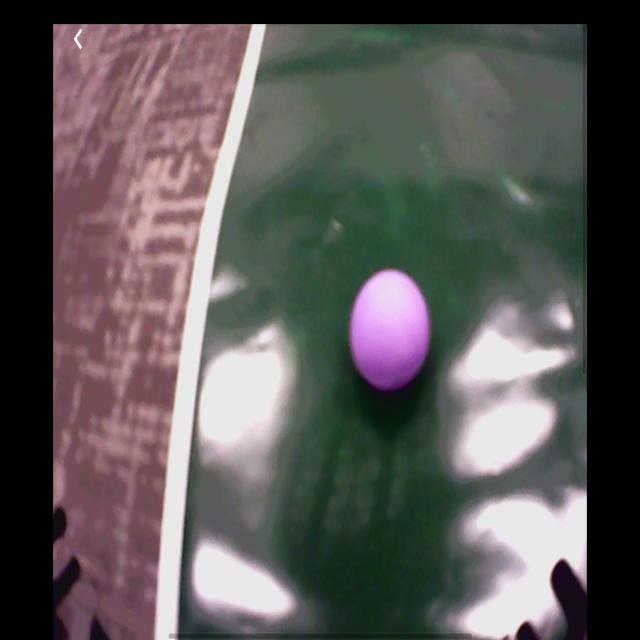ball: (350, 270, 431, 396)
